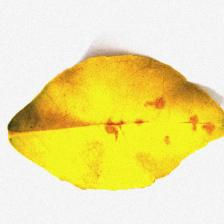black spot: (0, 78, 182, 166)
